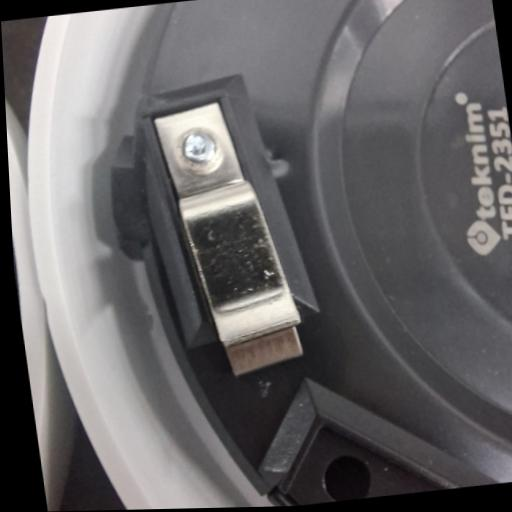yayli: (148, 94, 313, 384)
